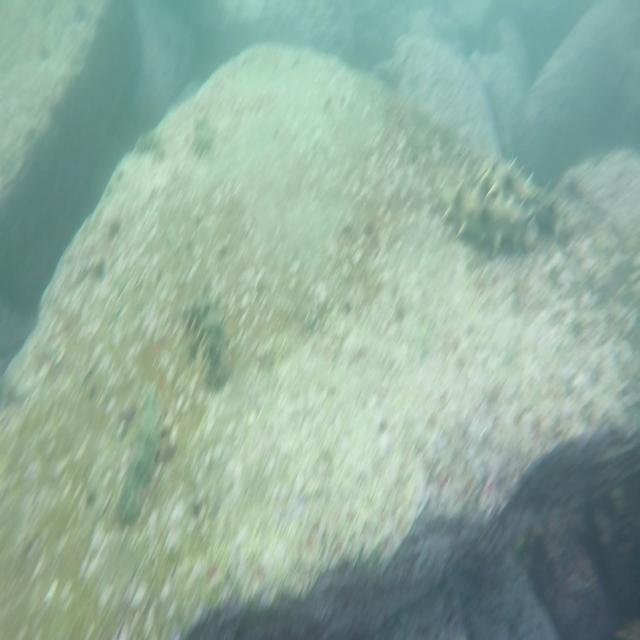holothurian: (434, 181, 538, 252), (473, 150, 564, 230), (116, 394, 162, 518), (182, 299, 232, 384), (134, 126, 167, 163), (188, 113, 215, 154)
